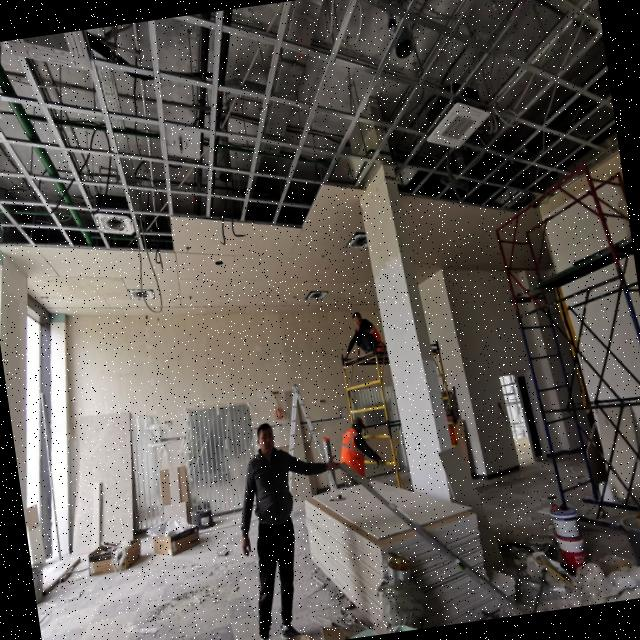NoHelmet: (254, 421, 280, 456), (351, 417, 369, 436), (352, 312, 365, 328)
